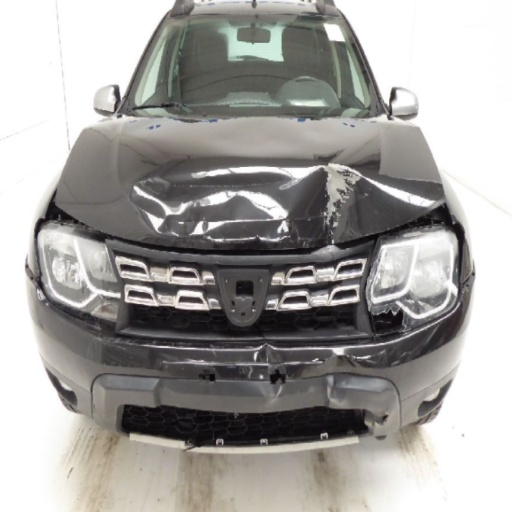dent: (126, 156, 396, 254), (232, 341, 303, 413), (308, 345, 388, 407), (186, 357, 225, 402), (363, 405, 400, 437)
scratch: (352, 327, 441, 368), (87, 332, 151, 365), (156, 353, 223, 376), (244, 342, 264, 401), (298, 354, 330, 370)
